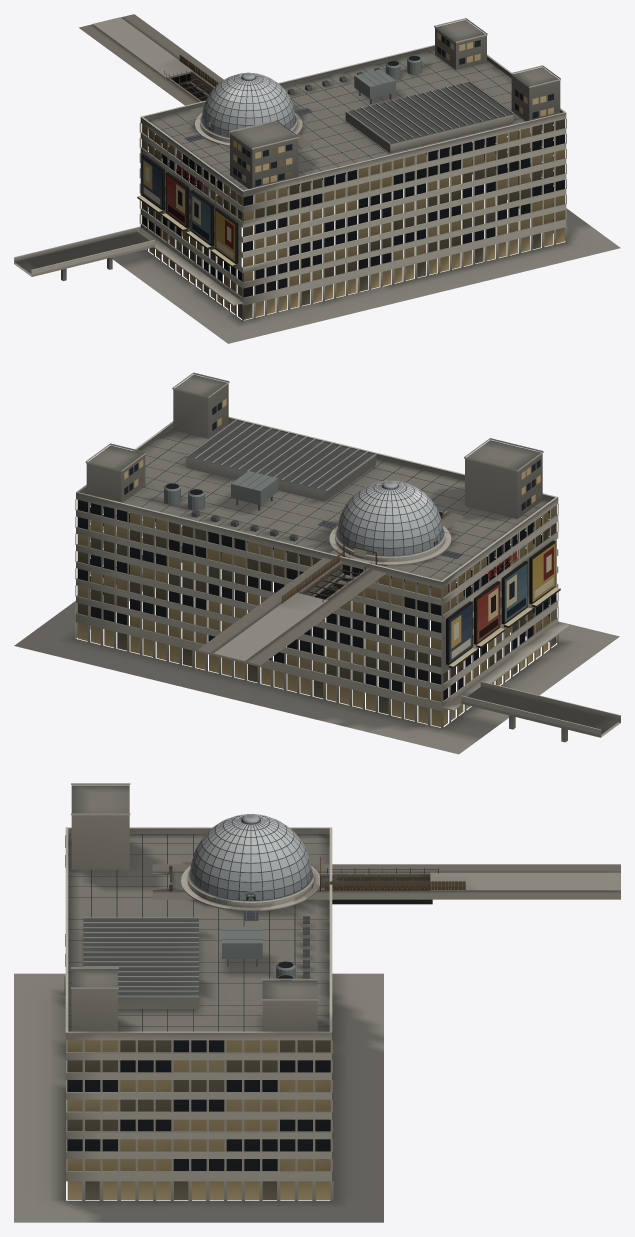
File: past.glb
3 renders of one model, top to bottom at view 1: azimuth 30°, elevation 25°; view 2: azimuth 150°, elevation 25°; view 3: azimuth 270°, elevation 25°, orthographic. The views are drawn at different scales.
Parts seen in each view (by area): view 1: dome, river; view 2: dome, river; view 3: dome, river.
Boxes of the visible parts, left/top/right/bottom form: dome: left=14, top=18, right=620, bottom=343; river: left=79, top=14, right=313, bottom=149; dome: left=14, top=372, right=620, bottom=754; river: left=198, top=510, right=464, bottom=665; dome: left=14, top=783, right=383, bottom=1222; river: left=152, top=857, right=620, bottom=904.
Size of the model in its own units: 128 by 43.45 by 105.
